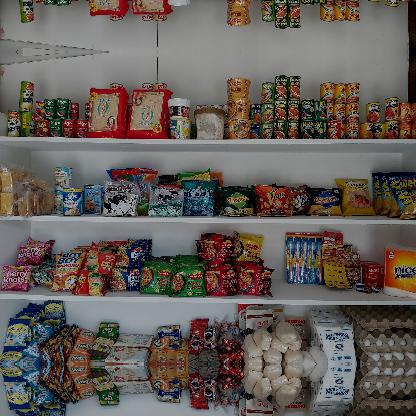Lady-s-Choice: (194, 108, 224, 138)
